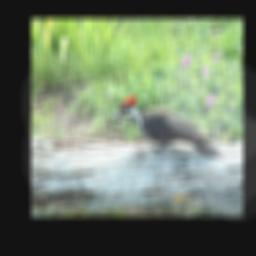Woodpecker: (109, 96, 225, 157)
